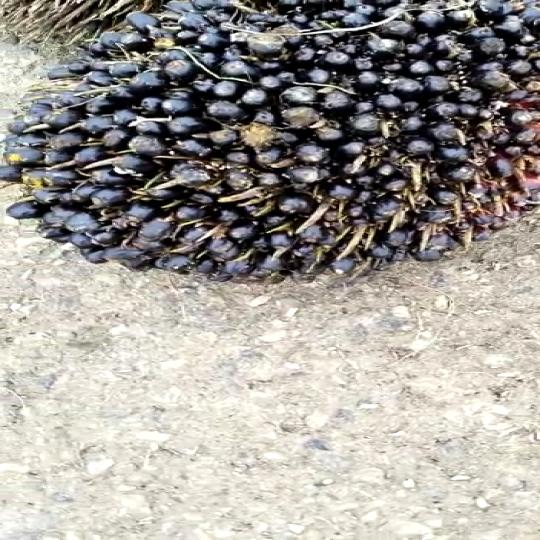mentah: (0, 0, 540, 300)
